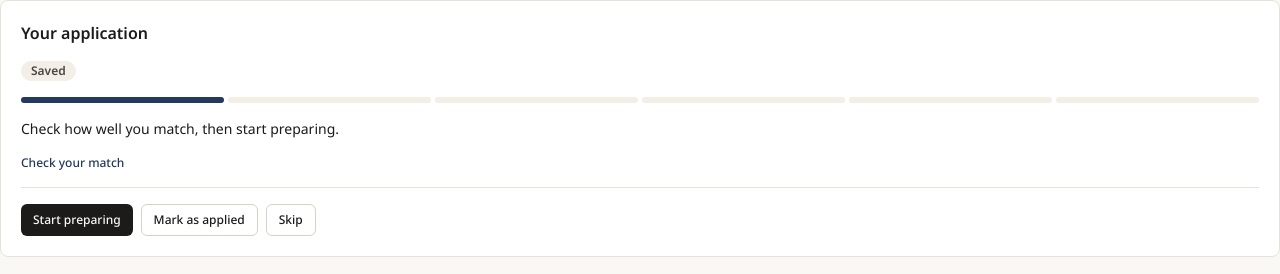
Scenario: stage panel, a job in the pipeline › shows a move in progress and holds the other moves
The width and height of the screenshot is (1280, 274).
Step 1. Click the button "Start preparing" → (77, 220), box [21,204,133,236]
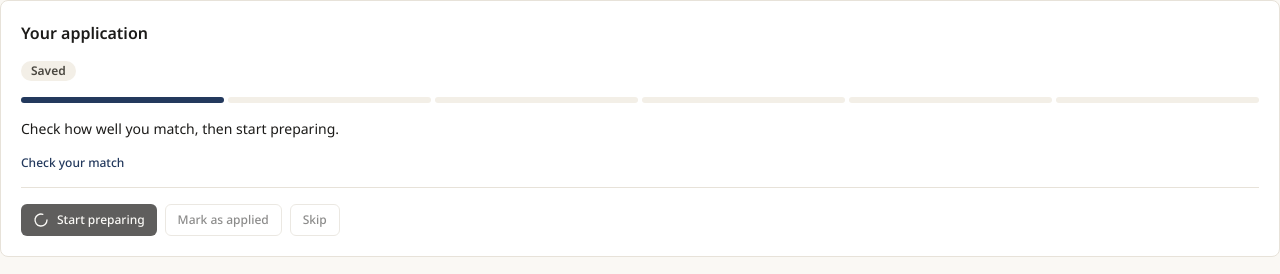
Expected: the button "Skip" is disabled, [290,204,340,236]
